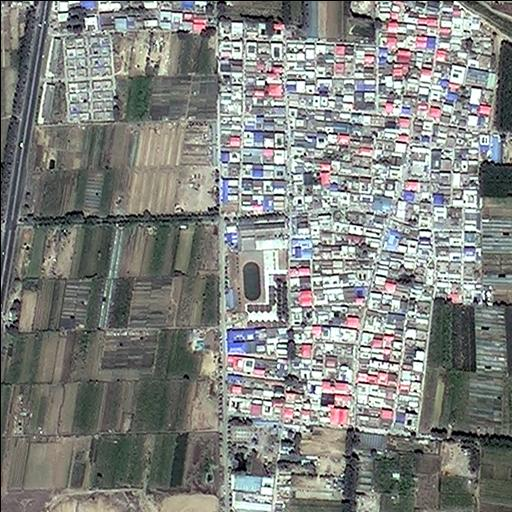school: (236, 218, 291, 306)
